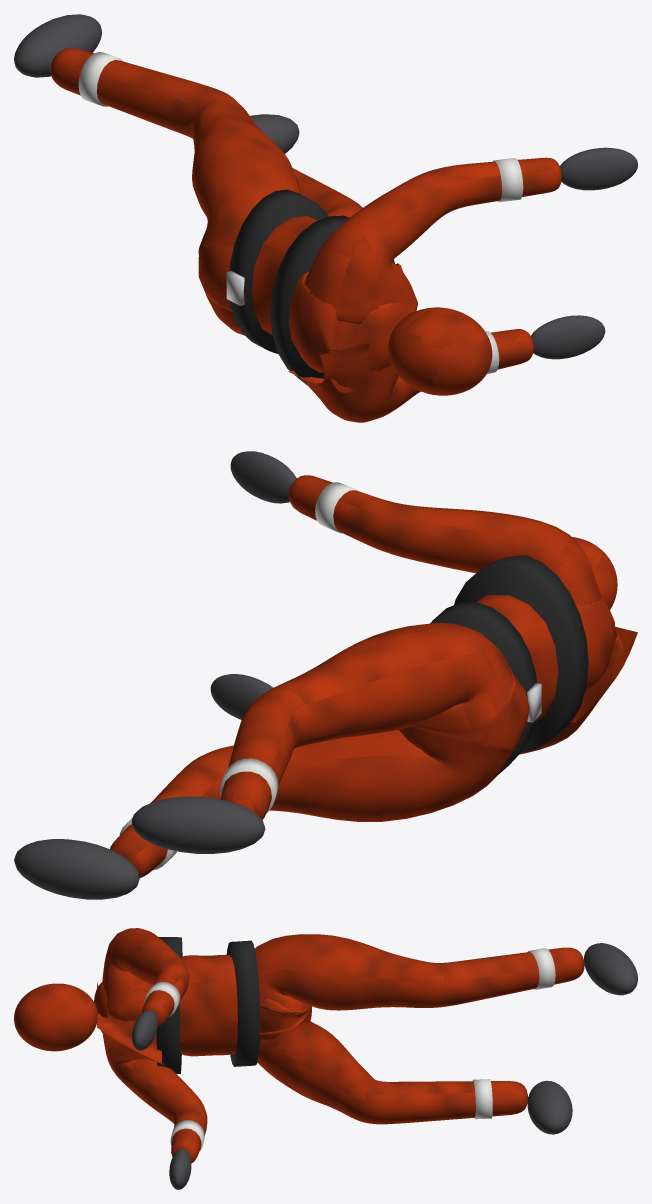
File: dummy_side.glb
3 renders of one model, top to bottom at view 1: azimuth 30°, elevation 25°; view 2: azimuth 150°, elevation 25°; view 3: azimuth 270°, elevation 25°, orthographic. The views are drawn at different scales.
Parts seen in each view (by area): view 1: dummy_side; view 2: dummy_side; view 3: dummy_side.
Part boxes in pixels (bbox=[...]): dummy_side: bbox=[14, 14, 637, 422]; dummy_side: bbox=[14, 451, 637, 899]; dummy_side: bbox=[14, 928, 637, 1189].
Bounding box in the file's own units: 0.809 × 0.5009 × 1.63.
5 materials, 1 textured.
